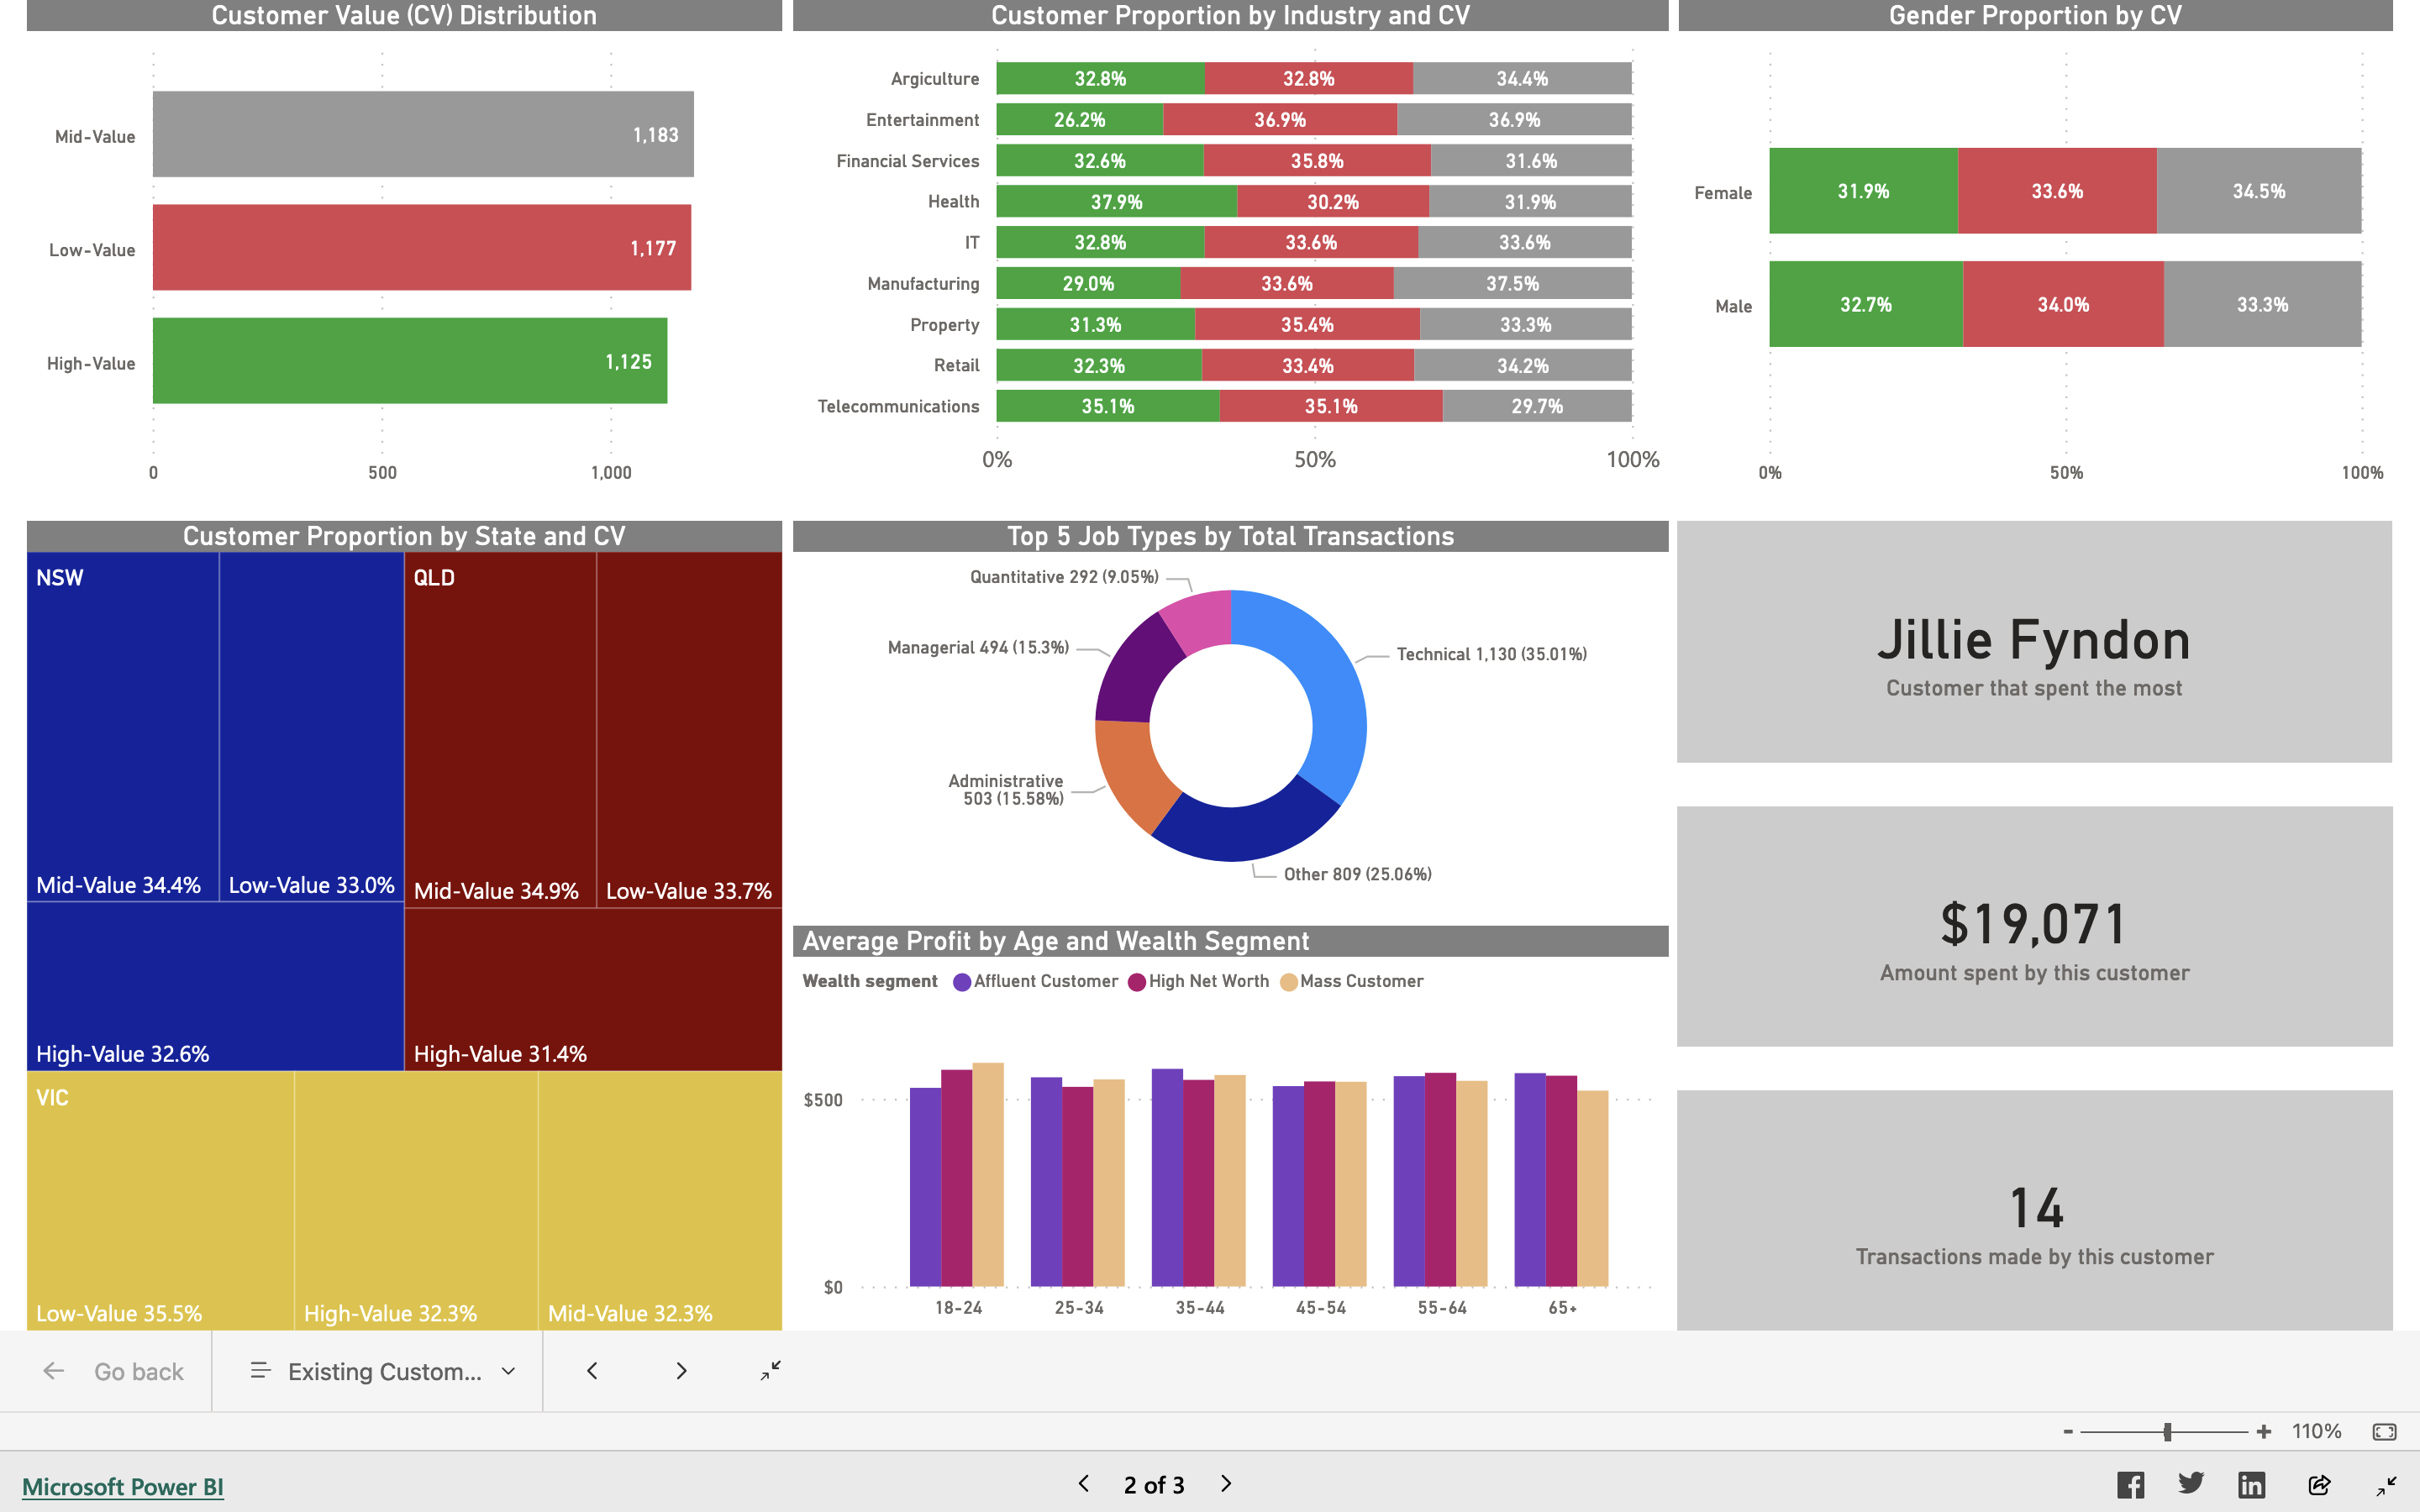

The dashboard page shown, as its layout file describes it:
{"tool":"powerbi","page":{"name":"Existing Customer Analysis","canvas":[1280,720],"ordinal":1},"visuals":[{"type":"clusteredBarChart","title":"Customer Value (CV) Distribution","fields":{"Category":["ExistingCustomerList.Target"],"Y":["Measures Table.Total Existing Customers"]},"box":[0,0,408.6,268.7],"z":0},{"type":"barChart","title":"Gender Proportion by CV","fields":{"Category":["ExistingCustomerList.gender"],"Series":["ExistingCustomerList.customer_value_label"],"Y":["Measures Table.Customers by Gender by CV"]},"box":[893.6,0,386.4,268.7],"z":1000},{"type":"treemap","title":"Customer Proportion by State and CV","fields":{"Group":["ExistingCustomerList.state"],"Details":["ExistingCustomerList.customer_value_label"],"Values":["Measures Table.Existing Customers by CV"]},"box":[0,281.4,408.6,438.6],"z":2000},{"type":"barChart","title":"Customer Proportion by Industry and CV","fields":{"Category":["ExistingCustomerList.job_industry_category"],"Series":["ExistingCustomerList.customer_value_label"],"Y":["Measures Table.Existing Customers by CV"]},"box":[414.6,0,473.8,268.7],"z":3000},{"type":"card","title":"Customer that spent the most:","fields":{"Values":["Min(ExistingCustomerList.customer_name)"]},"box":[893.1,281.6,386.9,130.7],"z":4000},{"type":"donutChart","title":"Top 5 Job Types by Total Transactions","fields":{"Category":["ExistingCustomerList.job_type"],"Y":["Measures Table.Total Existing Customers"]},"box":[414.6,281.4,473.8,210.3],"z":5000},{"type":"clusteredColumnChart","title":"Average Profit by Age and Wealth Segment","fields":{"Category":["ExistingCustomerList.age_group"],"Y":["Avg(Transactions.profit)"],"Series":["ExistingCustomerList.wealth_segment"]},"box":[414.6,500.7,473.8,219.3],"z":6000},{"type":"card","title":"Amount spent","fields":{"Values":["Measures Table.Total Spend"]},"box":[892.7,436.3,387.3,129.9],"z":7000},{"type":"card","title":"Quantity Purchased:","fields":{"Values":["Measures Table.Quantity Sold"]},"box":[892.7,590.1,387.3,129.9],"z":8000}]}

Visuals, with their boxes on the page's 1280x720 design canvas (x1, y1, x2, y2). These are canvas units, not pixel positions in the 2420x1512 screenshot, which may show the page scaled, cropped or inside an application window:
"Customer Value (CV) Distribution" clusteredBarChart: Rect(0, 0, 409, 269)
"Gender Proportion by CV" barChart: Rect(894, 0, 1280, 269)
"Customer Proportion by State and CV" treemap: Rect(0, 281, 409, 720)
"Customer Proportion by Industry and CV" barChart: Rect(415, 0, 888, 269)
"Customer that spent the most:" card: Rect(893, 282, 1280, 412)
"Top 5 Job Types by Total Transactions" donutChart: Rect(415, 281, 888, 492)
"Average Profit by Age and Wealth Segment" clusteredColumnChart: Rect(415, 501, 888, 720)
"Amount spent" card: Rect(893, 436, 1280, 566)
"Quantity Purchased:" card: Rect(893, 590, 1280, 720)
